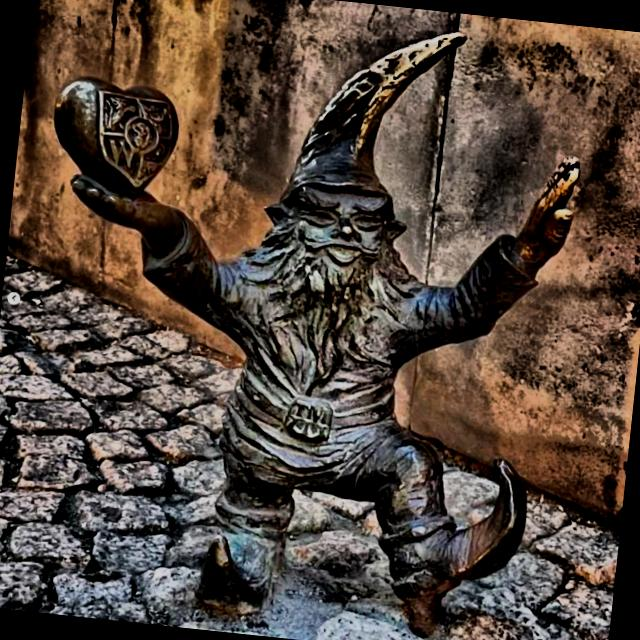WrocLovek: (53, 34, 578, 639)
